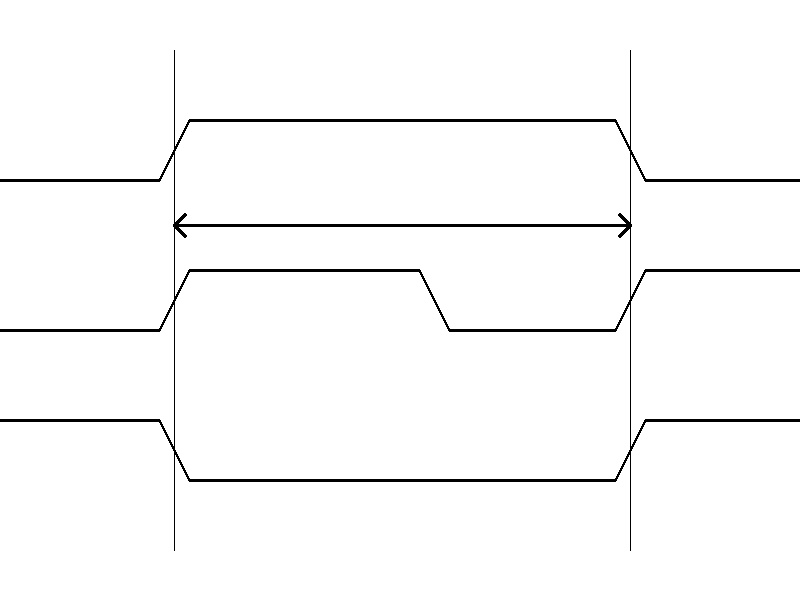double_arrow: (174, 210, 630, 240)
